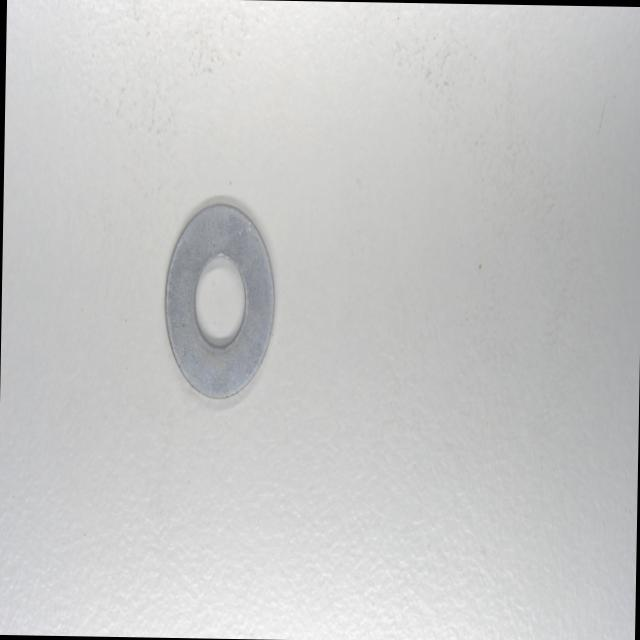washer: (160, 198, 280, 404)
